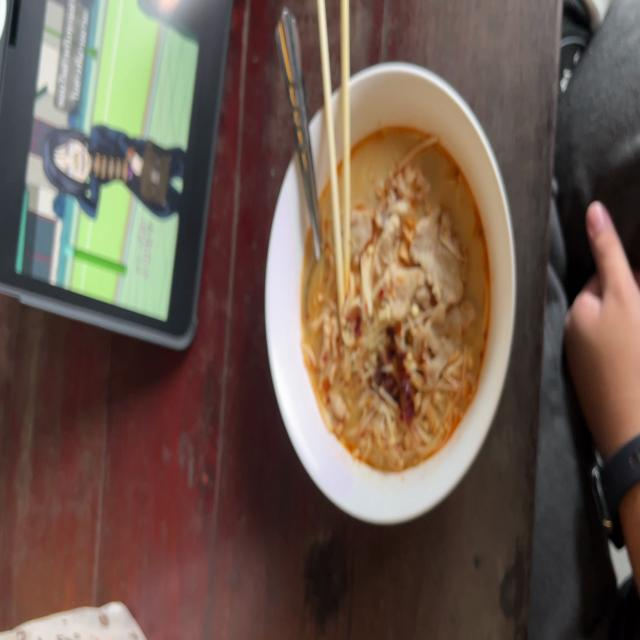noodle: (296, 114, 496, 466)
